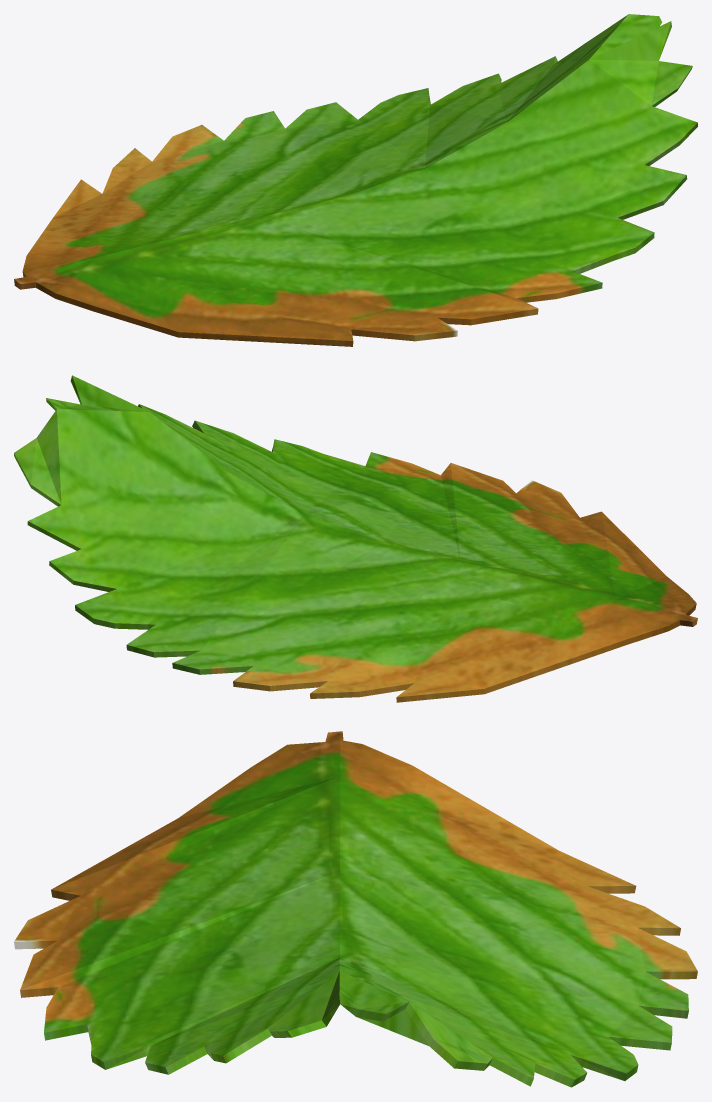
Rendered from leaf2_s1.dae.
The picture shows the model from 3 angles, top to bottom: view 1: azimuth 30°, elevation 25°; view 2: azimuth 150°, elevation 25°; view 3: azimuth 270°, elevation 25°; orthographic projection. The views are drawn at different scales.
Parts seen in each view (by area): view 1: Plane; view 2: Plane; view 3: Plane.
Part boxes in pixels (<box>): Plane: <box>14,14,697,346</box>; Plane: <box>14,375,697,702</box>; Plane: <box>14,731,697,1087</box>.
Bounding box in the file's own units: 0.1377 × 0.1018 × 0.0278.
1 material, 1 textured.
